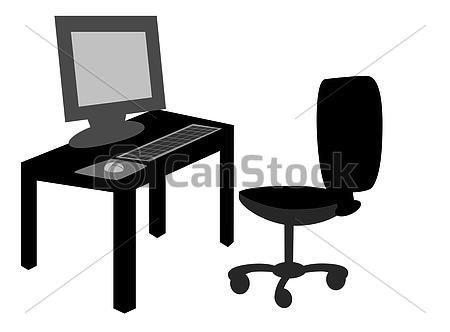chair: (229, 73, 385, 308)
tvmonitor: (52, 13, 167, 147)
